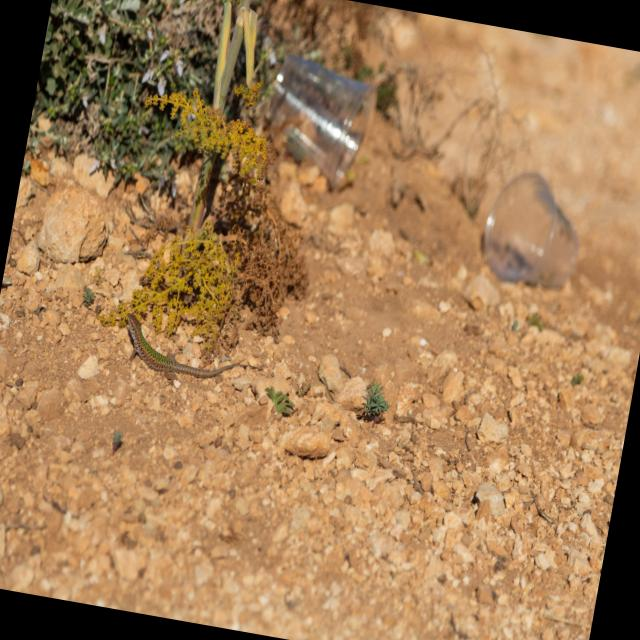Cup: (254, 52, 372, 186), (478, 170, 583, 293)
